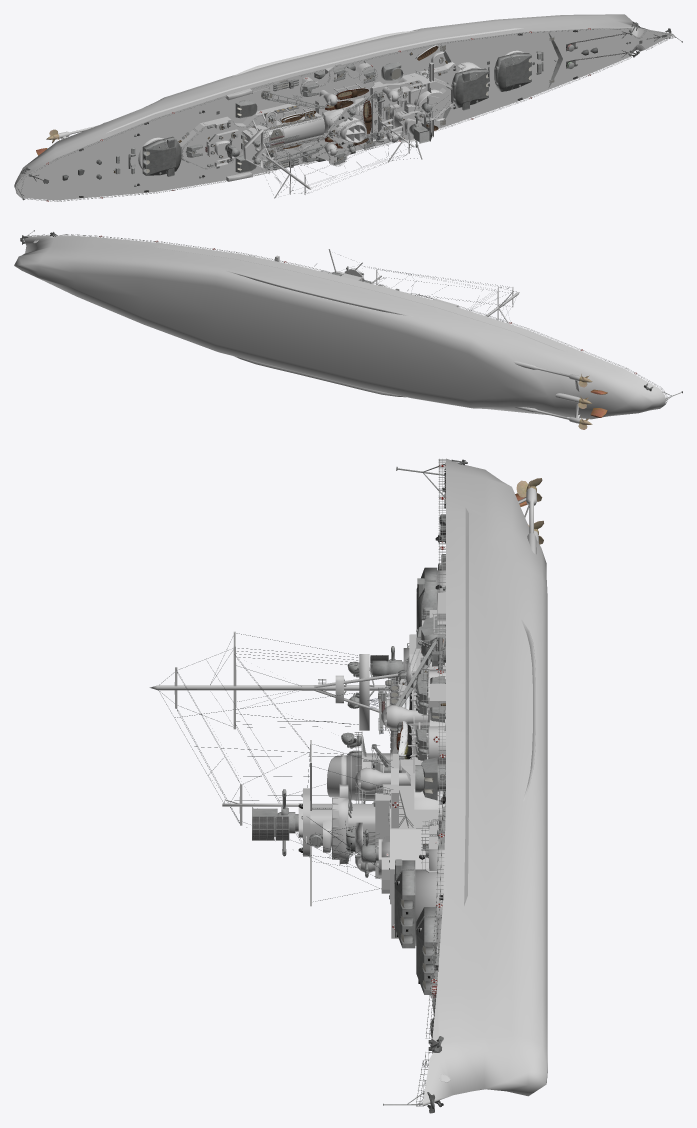
Rendered from Scharnhorst.fbx.
3 renders of one model, top to bottom at view 1: azimuth 30°, elevation 25°; view 2: azimuth 150°, elevation 25°; view 3: azimuth 270°, elevation 25°, orthographic. The views are drawn at different scales.
Visible parts, largest first — view 1: Scharnhorst_Hull, Scharnhorst_Props, Scharnhorst_SideFence, Scharnhorst_Main_turret.002, Scharnhorst_Main_turret.001, Scharnhorst_Main_turret, Scharnhorst_Radar_3, Scharnhorst_Crane_1.001, Scharnhorst_Secondary_1_turret.001, Scharnhorst_Secondary_2_turret.001, Scharnhorst_Cables, Scharnhorst_Catapult (+1 smaller); view 2: Scharnhorst_Hull, Scharnhorst_SideFence; view 3: Scharnhorst_Hull, Scharnhorst_Props, Scharnhorst_SideFence, Scharnhorst_Cables, Scharnhorst_Main_turret.001, Scharnhorst_Main_turret, Scharnhorst_Radar_3, Scharnhorst_Secondary_1_turret.001, Scharnhorst_Main_turret.002.
Part boxes in pixels (x1,y1,x2,y2): Scharnhorst_Hull: [14, 14, 672, 200]; Scharnhorst_Props: [18, 22, 682, 201]; Scharnhorst_SideFence: [16, 28, 674, 201]; Scharnhorst_Main_turret.002: [142, 136, 181, 176]; Scharnhorst_Main_turret.001: [451, 68, 488, 110]; Scharnhorst_Main_turret: [494, 53, 531, 91]; Scharnhorst_Radar_3: [409, 114, 431, 147]; Scharnhorst_Crane_1.001: [261, 90, 328, 108]; Scharnhorst_Secondary_1_turret.001: [381, 61, 403, 80]; Scharnhorst_Secondary_2_turret.001: [235, 99, 257, 118]; Scharnhorst_Cables: [263, 86, 449, 194]; Scharnhorst_Catapult: [264, 129, 299, 149]; Scharnhorst_Hull: [14, 235, 665, 423]; Scharnhorst_SideFence: [26, 234, 667, 406]; Scharnhorst_Hull: [149, 458, 547, 1106]; Scharnhorst_Props: [301, 459, 467, 1113]; Scharnhorst_SideFence: [318, 459, 446, 1106]; Scharnhorst_Cables: [158, 633, 393, 901]; Scharnhorst_Main_turret.001: [394, 859, 415, 948]; Scharnhorst_Main_turret: [416, 907, 436, 994]; Scharnhorst_Radar_3: [252, 789, 298, 856]; Scharnhorst_Secondary_1_turret.001: [415, 757, 445, 800]; Scharnhorst_Main_turret.002: [416, 567, 437, 636].
Bounding box in the file's own units: 236 × 34.65 × 62.37.
